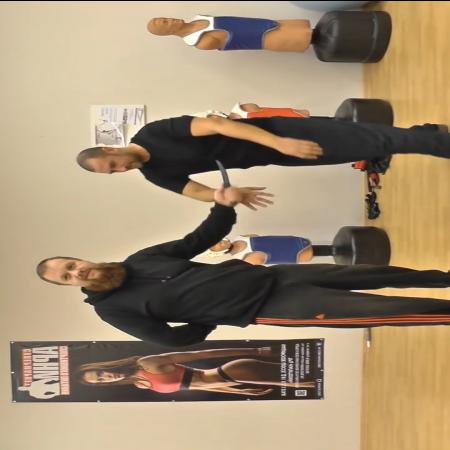long weapon: (208, 156, 241, 200)
